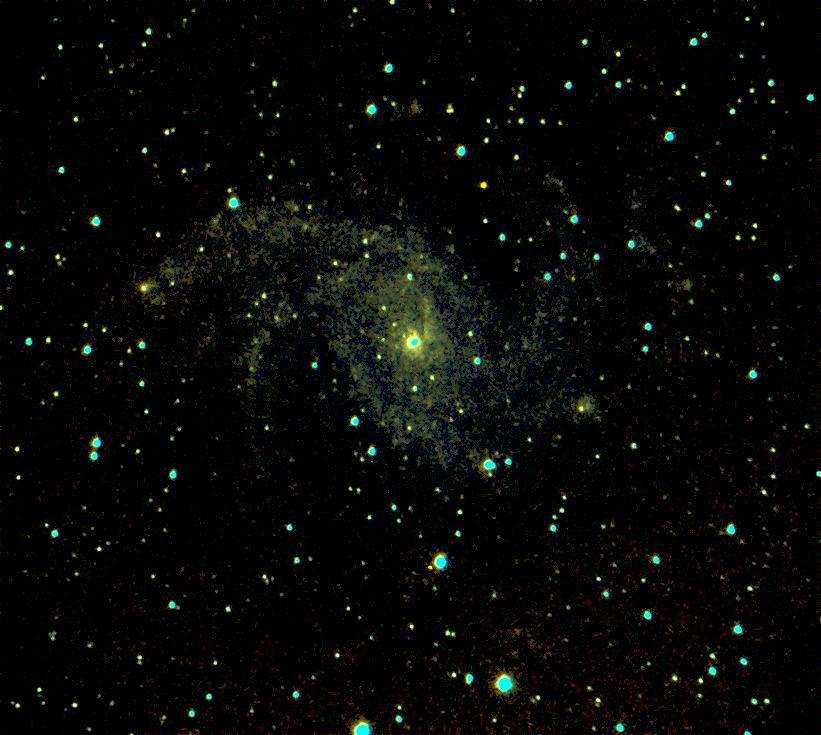star: (470, 177, 500, 207)
